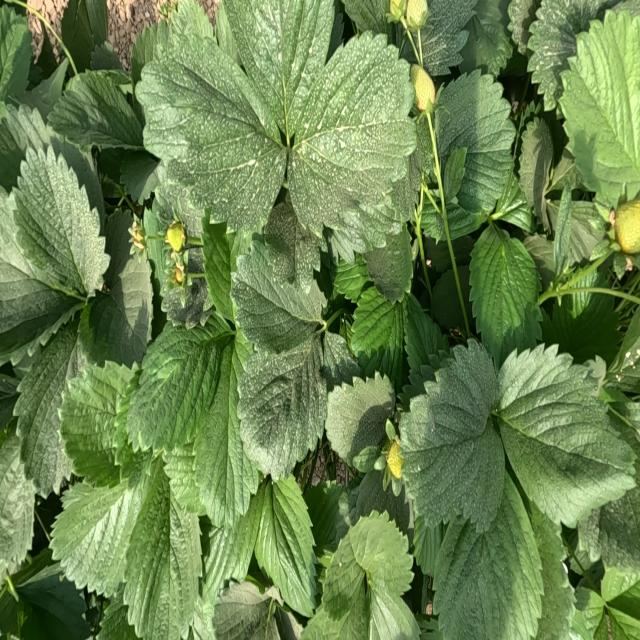Leaves: (138, 10, 284, 235), (290, 32, 416, 236), (500, 347, 634, 526), (234, 235, 325, 477), (400, 340, 504, 531), (431, 486, 543, 638), (221, 0, 336, 139), (11, 148, 109, 296), (561, 18, 639, 201), (123, 462, 202, 639), (128, 316, 227, 451), (0, 190, 77, 362), (49, 475, 145, 597), (194, 350, 259, 529), (469, 226, 542, 366), (88, 211, 153, 366), (15, 330, 76, 494), (439, 78, 513, 212), (331, 151, 421, 261), (528, 0, 614, 109), (323, 511, 413, 613), (61, 361, 133, 485), (255, 482, 315, 614), (48, 71, 144, 148), (326, 374, 394, 471), (204, 490, 263, 599), (531, 503, 574, 639), (264, 199, 320, 290), (0, 436, 34, 581), (18, 571, 90, 639), (51, 138, 104, 229), (549, 294, 619, 362), (420, 0, 476, 75), (301, 579, 370, 639), (459, 0, 512, 77), (1, 103, 48, 188), (404, 293, 449, 381), (350, 288, 403, 359), (351, 470, 410, 533), (519, 118, 553, 220), (599, 485, 639, 571), (305, 482, 350, 558), (365, 228, 412, 300), (61, 0, 108, 72), (213, 580, 269, 639), (202, 218, 234, 319), (162, 443, 204, 514), (604, 308, 639, 392), (370, 582, 419, 639), (1, 7, 31, 100), (488, 170, 532, 231), (323, 334, 361, 388), (431, 270, 464, 329), (96, 594, 138, 639), (130, 25, 159, 89), (333, 256, 372, 302), (413, 516, 443, 575), (571, 588, 603, 639), (343, 1, 391, 35), (448, 197, 484, 239), (508, 0, 533, 53), (443, 149, 467, 204), (425, 238, 452, 272), (421, 203, 445, 241), (91, 41, 122, 69), (459, 265, 473, 321), (452, 235, 475, 265), (161, 21, 167, 39), (432, 212, 441, 219)
Strawberries: (614, 202, 639, 252), (410, 66, 435, 111), (386, 440, 403, 492), (406, 0, 428, 32), (130, 216, 146, 253), (166, 224, 185, 251), (389, 0, 407, 21), (174, 262, 187, 286)
